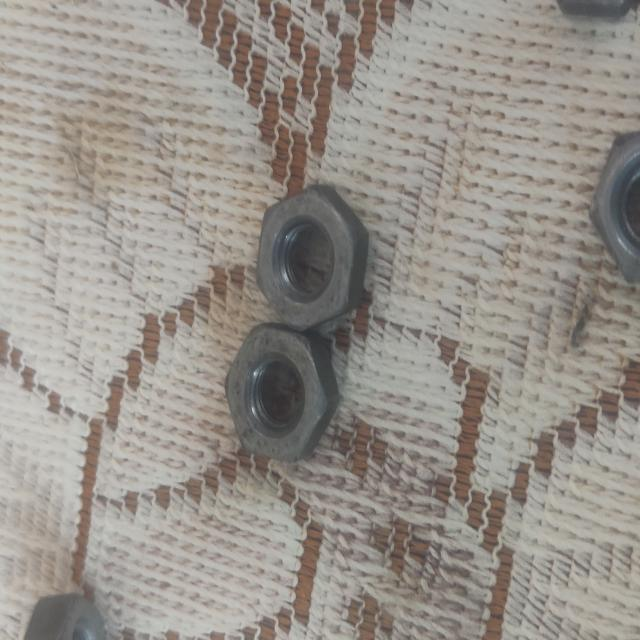disinfected nut: (258, 183, 368, 330), (225, 323, 340, 463), (590, 130, 640, 280), (24, 593, 108, 640)
